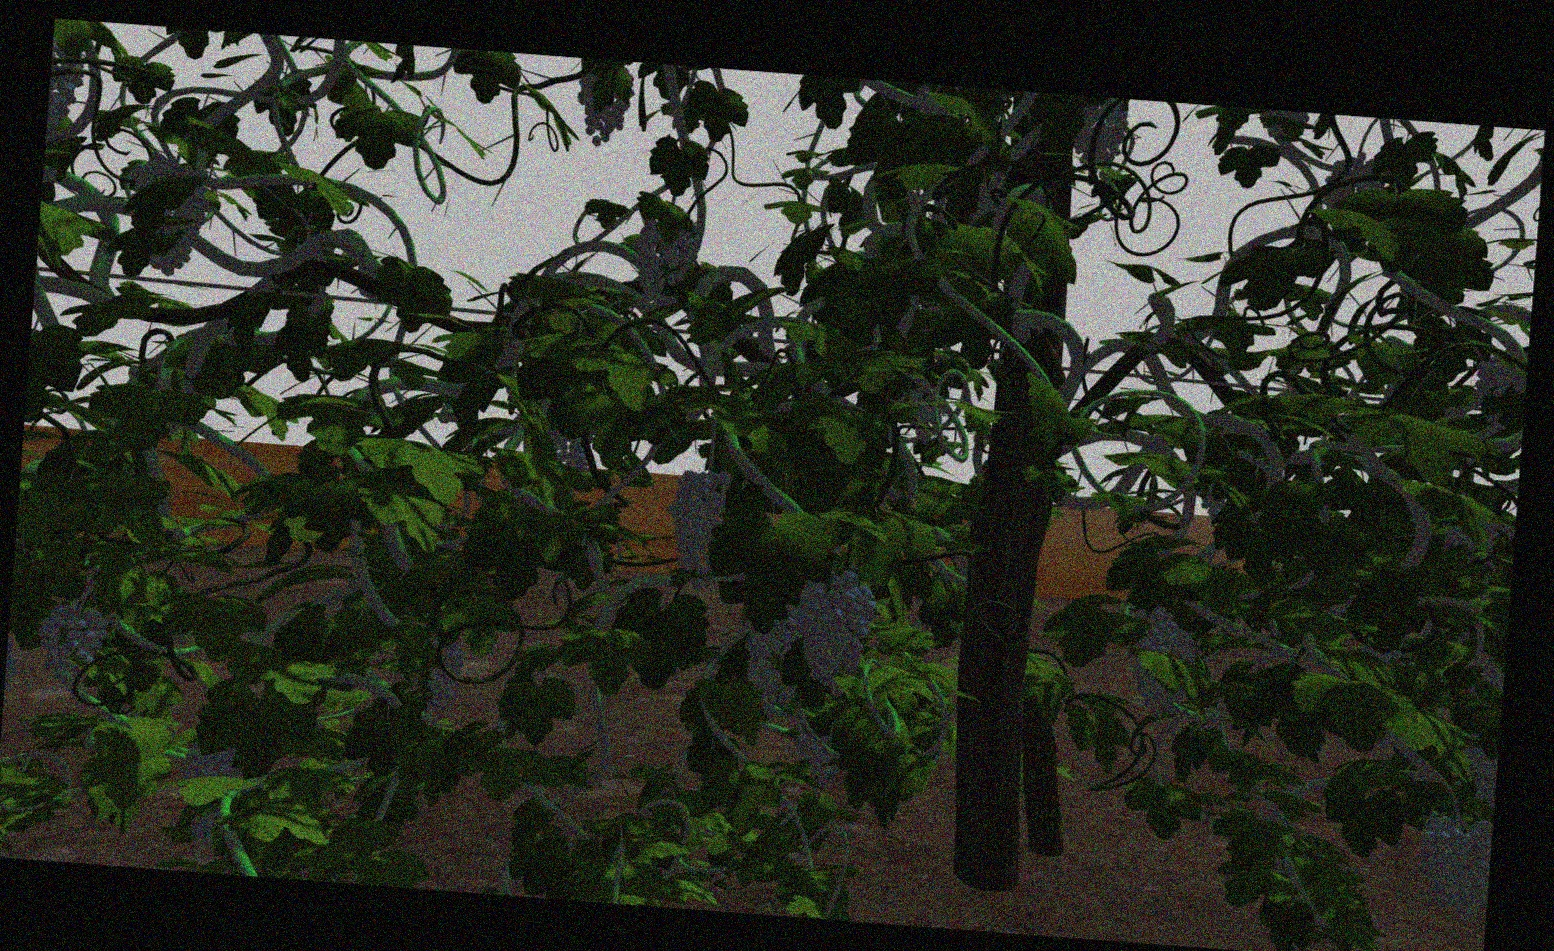grape: (797, 568, 876, 689), (130, 155, 206, 276), (1128, 606, 1199, 717), (663, 467, 728, 571), (745, 604, 801, 714), (1415, 818, 1485, 904), (630, 214, 699, 295), (38, 599, 102, 682), (571, 67, 629, 145), (1072, 103, 1129, 174)
